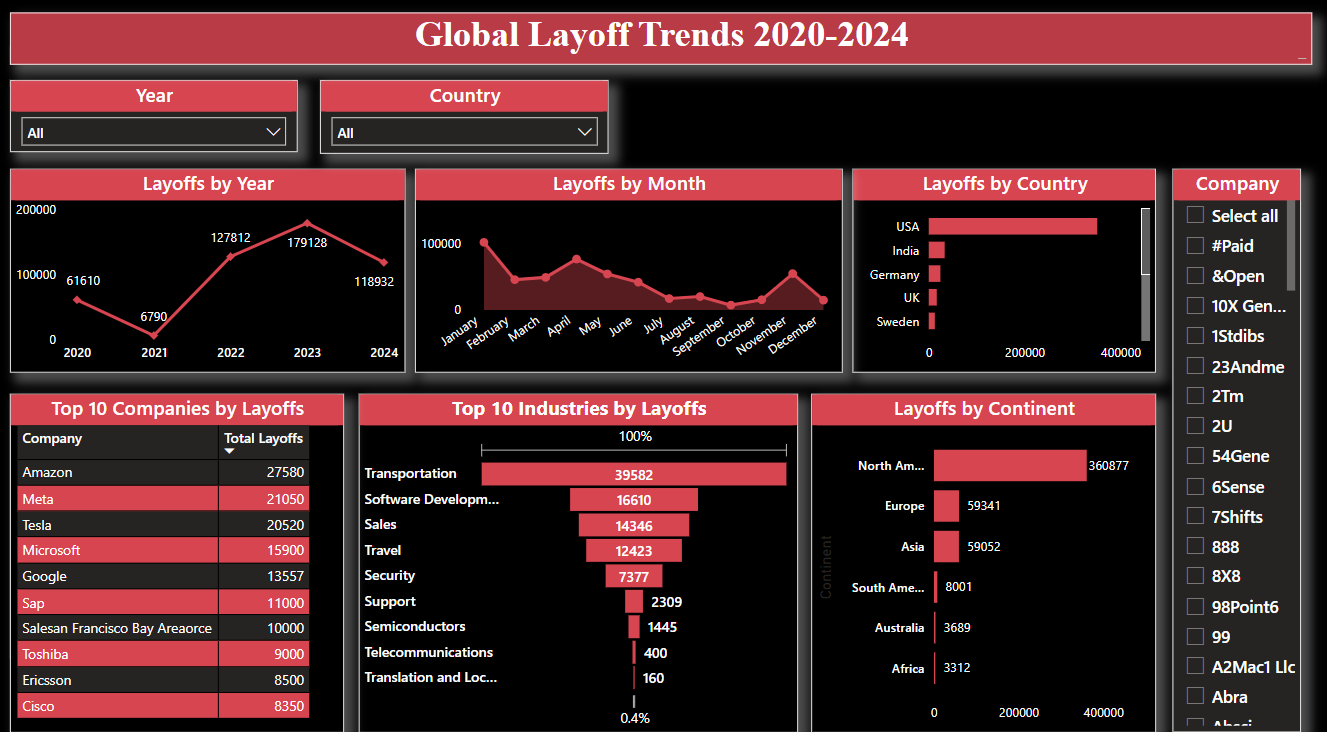

The page's visual inventory and layout, read from the dashboard file:
{"tool":"powerbi","page":{"name":"Laayoffs  Across Globe","canvas":[1280,720],"ordinal":0},"visuals":[{"type":"lineChart","title":"Layoffs by Year","fields":{"Category":["layoffs.Date.Variation.Date Hierarchy.Year"],"Y":["Sum(layoffs.Laid_Off_Count)"]},"box":[9.7,162.9,381.2,196.6],"z":0},{"type":"funnel","title":"Top 10 Industries by Layoffs","fields":{"Category":["layoffs.Industry"],"Y":["Sum(layoffs.Laid_Off_Count)"]},"box":[346.3,379.4,424.2,327.5],"z":1000},{"type":"clusteredBarChart","title":"Layoffs by Continent","fields":{"Category":["layoffs.Continent"],"Y":["Sum(layoffs.Laid_Off_Count)"]},"box":[783,380,333,326.9],"z":2000},{"type":"clusteredBarChart","title":"Layoffs by Country","fields":{"Category":["layoffs.Country"],"Y":["Sum(layoffs.Laid_Off_Count)"]},"box":[822.8,162.9,293.2,196.6],"z":3000},{"type":"lineChart","title":"Layoffs by Month","fields":{"Category":["layoffs.Date.Variation.Date Hierarchy.Month"],"Y":["Sum(layoffs.Laid_Off_Count)"]},"box":[400.5,162.9,412.6,196.6],"z":4000},{"type":"tableEx","title":"Top 10 Companies by Layoffs","fields":{"Values":["layoffs.Company","Sum(layoffs.Laid_Off_Count)"]},"box":[9.7,380,322.1,326.9],"z":5000},{"type":"slicer","title":"Company","fields":{"Values":["layoffs.Company"]},"box":[1131.6,162.9,124.3,544.1],"z":6000},{"type":"slicer","title":"Country","fields":{"Values":["layoffs.Country"]},"box":[308.8,77.2,278.7,71.2],"z":7000},{"type":"slicer","title":"Year","fields":{"Values":["layoffs.Date.Variation.Date Hierarchy.Year"]},"box":[9.7,77.2,277.5,70],"z":8000},{"type":"textbox","title":"Global Layoff Trends 2020-2024","box":[9.7,12.1,1257.1,50.7],"z":9000}]}

Visuals, with their boxes in screenshot pixels (x1, y1, x2, y2), scaled from the page's 1280x720 canvas onto the 1327x732 screenshot:
"Layoffs by Year" lineChart: x1=10, y1=166, x2=405, y2=365
"Top 10 Industries by Layoffs" funnel: x1=359, y1=386, x2=799, y2=719
"Layoffs by Continent" clusteredBarChart: x1=812, y1=386, x2=1157, y2=719
"Layoffs by Country" clusteredBarChart: x1=853, y1=166, x2=1157, y2=365
"Layoffs by Month" lineChart: x1=415, y1=166, x2=843, y2=365
"Top 10 Companies by Layoffs" tableEx: x1=10, y1=386, x2=344, y2=719
"Company" slicer: x1=1173, y1=166, x2=1302, y2=719
"Country" slicer: x1=320, y1=78, x2=609, y2=151
"Year" slicer: x1=10, y1=78, x2=298, y2=150
"Global Layoff Trends 2020-2024" textbox: x1=10, y1=12, x2=1313, y2=64
